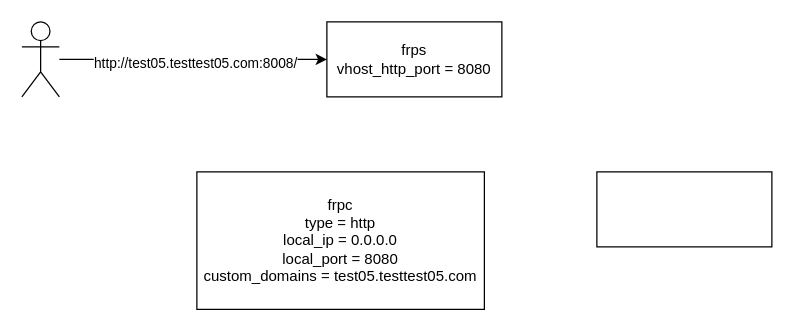
Image size: 794x331. Some labels were removed from this diagram. The centre of each missing label's shape, as x and y in pixels:
"Actor" belongs at point (40, 59).
"localhost 0.0.0.0:8080" belongs at point (684, 209).
